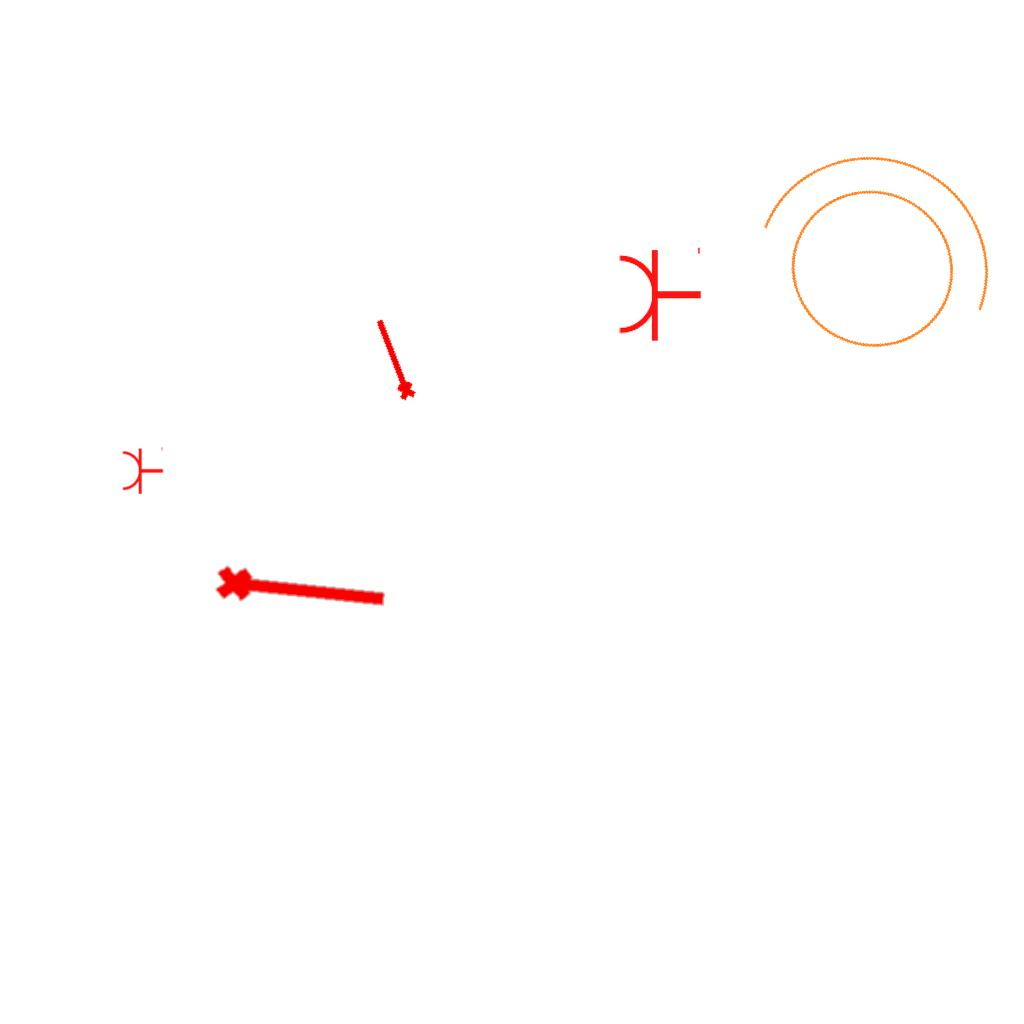ASR_Ansaugoeffnung: (212, 555, 392, 621), (366, 314, 420, 405)
Scheinwerfer_fuer_Alarmbeleuchtung: (706, 105, 1024, 410)
Schukosteckdose_einfach: (616, 243, 703, 343), (121, 445, 164, 495)
